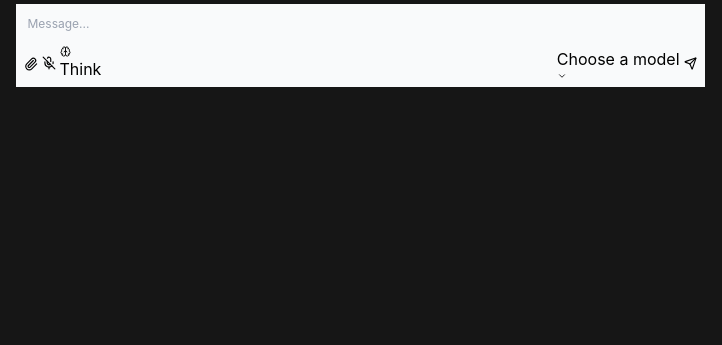
it: the model picker after a send without a model › opens by itself and says what is missing, in the menu
Step 1. Type "a message that must not get lost" into the text box → coordinates (360, 24), box [28,14,692,34]
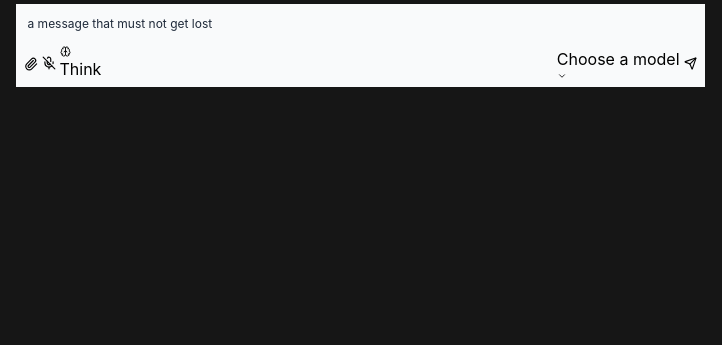
Step 2. Click the button named "Send message" → coordinates (690, 63), box [684,56,696,70]
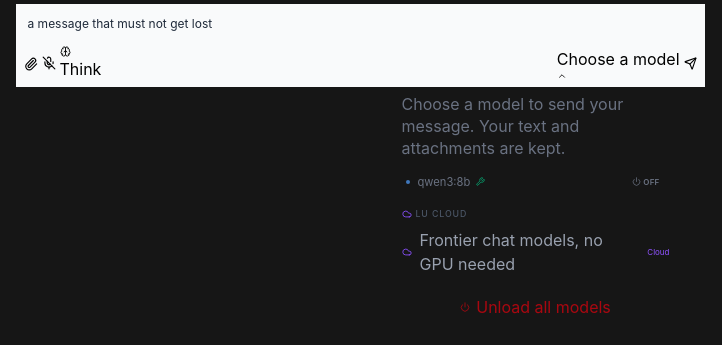
Now the element with test id "model-picker-menu" is shown, box [392,86,680,328]
Now the text with test id "picker-send-needs-model" reads "Choose a model to send your message. Your text and attachments are kept.", box [402,94,623,158]
